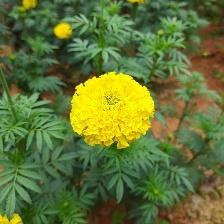marigold: (71, 72, 157, 153)
